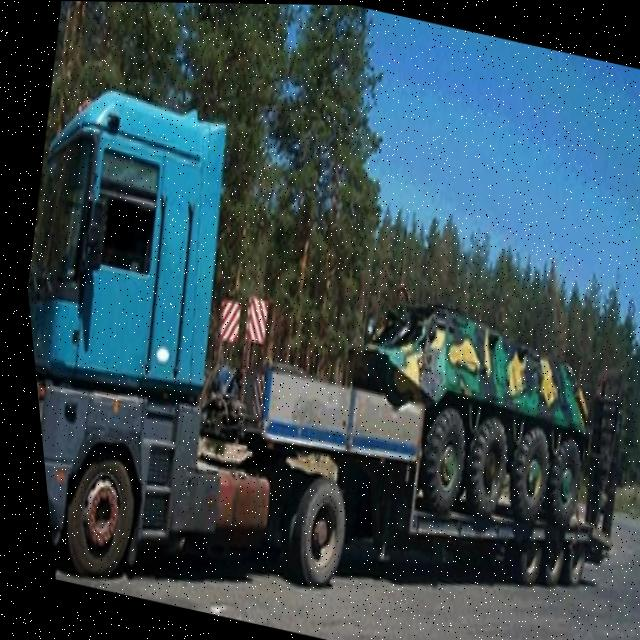MIL_APC: (299, 246, 638, 551)
